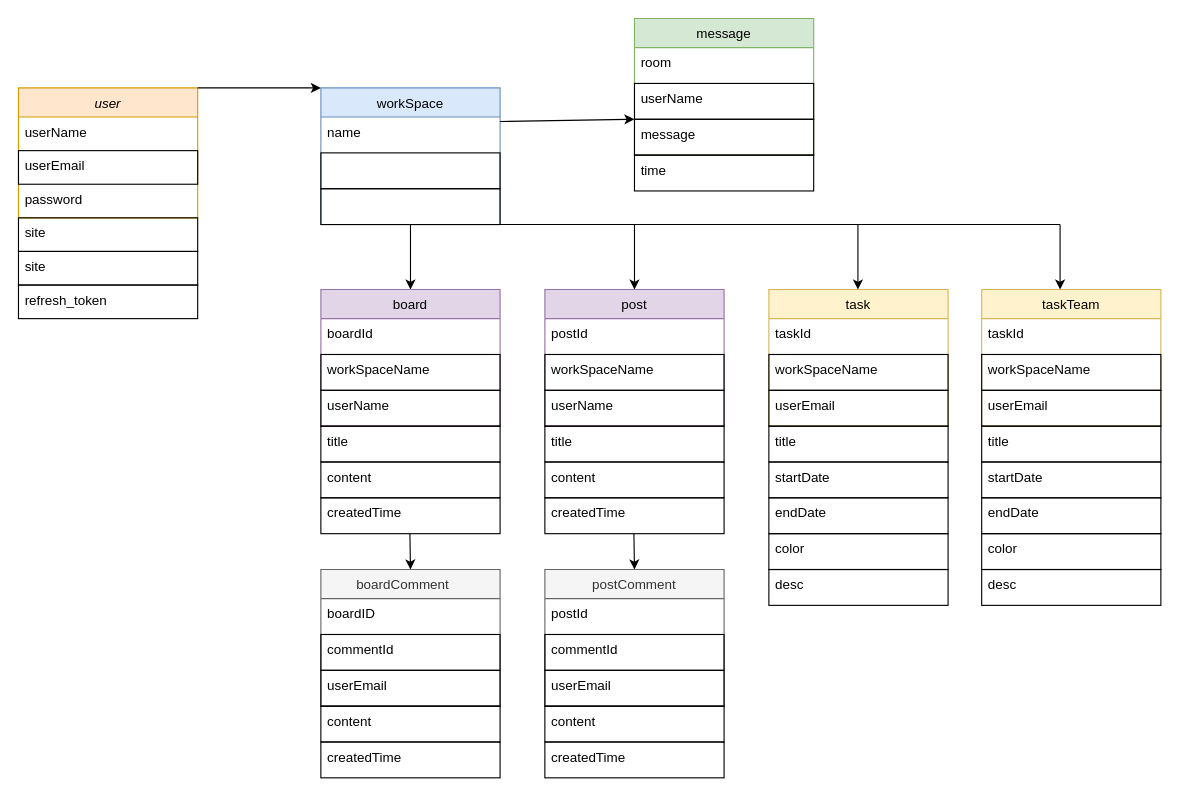
Image size: 1179x796. Some labels were removed from this diagram. Here are the shapes that lost their labels. From the top down, the centre of each, then its label:
At point 410,170: "owner".
At point 410,206: "memberList".
